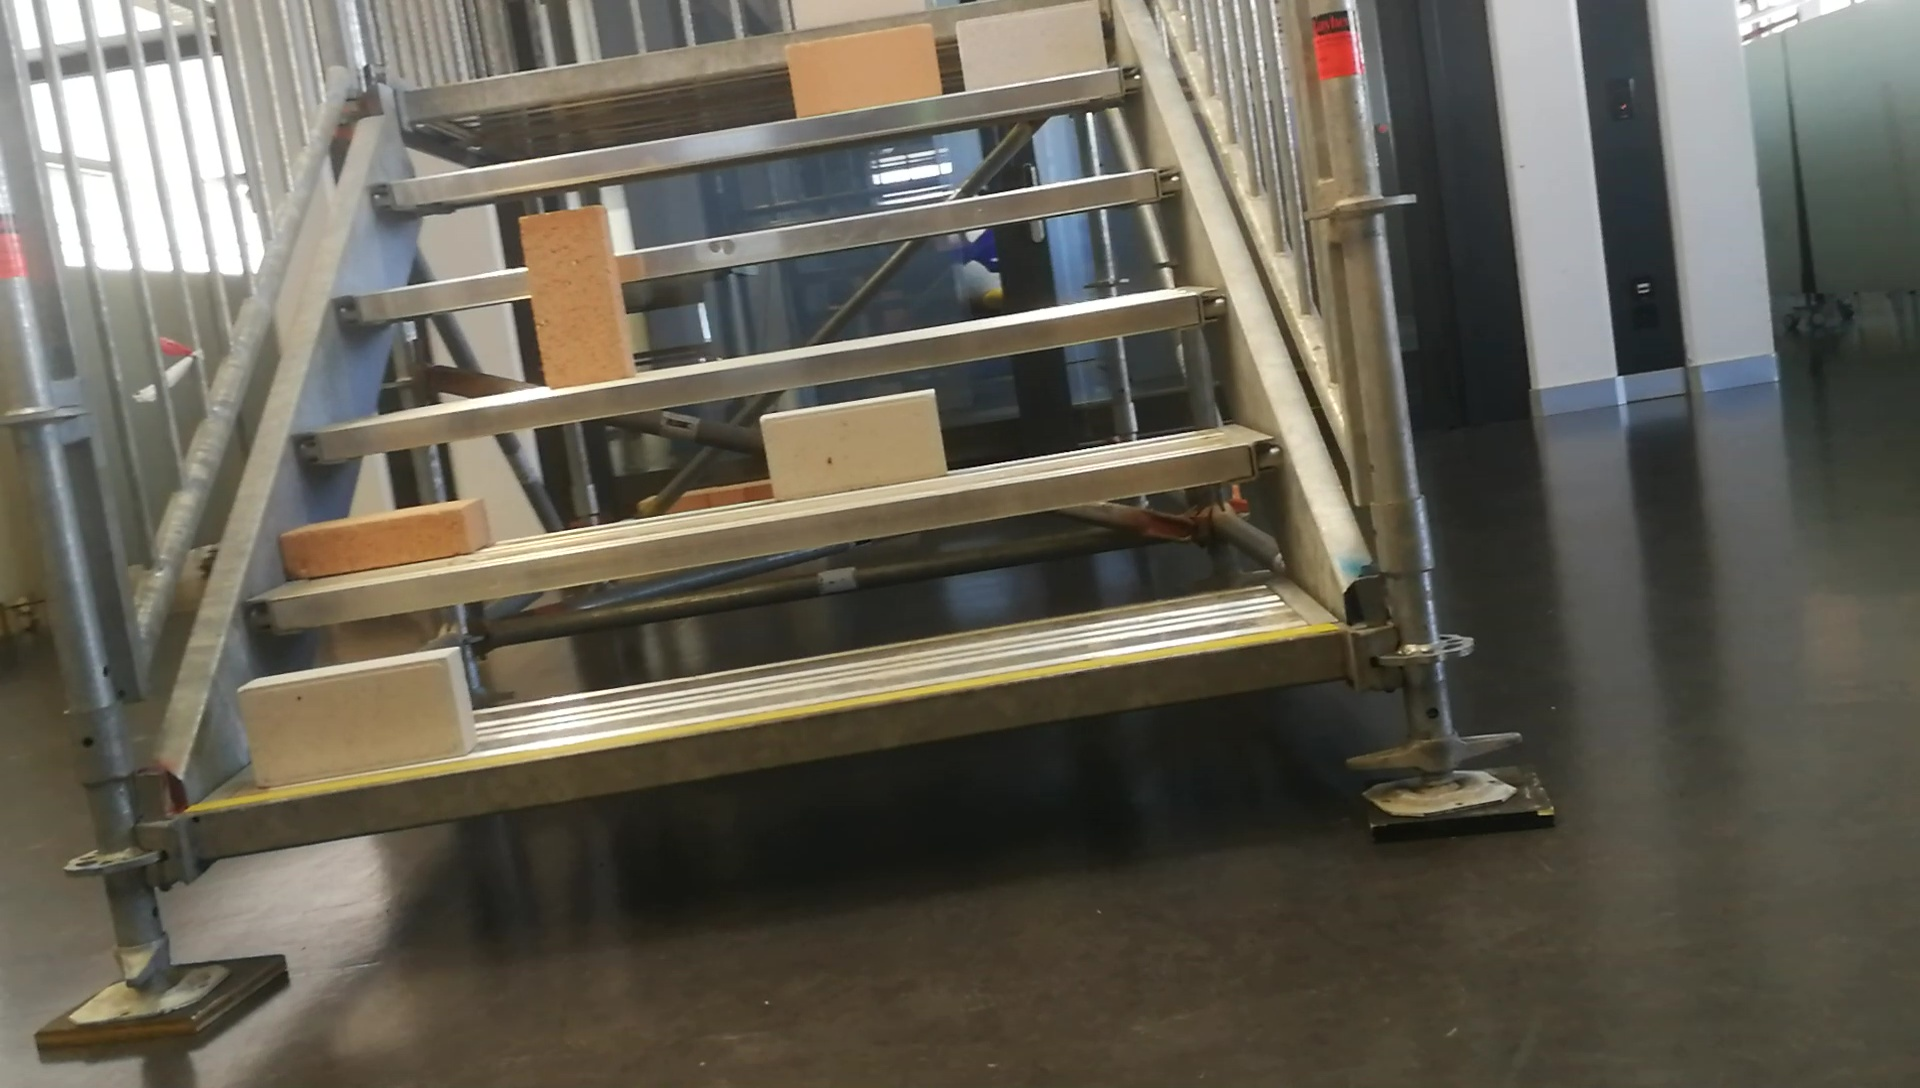brick: (240, 645, 473, 786), (761, 388, 943, 500), (522, 204, 633, 388), (276, 496, 485, 578), (787, 25, 943, 119), (957, 3, 1102, 94), (793, 3, 926, 22)
edge: (187, 626, 1348, 853), (247, 433, 1283, 630), (295, 290, 1225, 462), (340, 167, 1174, 330), (369, 67, 1141, 208)
stairs: (30, 0, 1553, 1052)
steps: (189, 5, 1360, 870)
